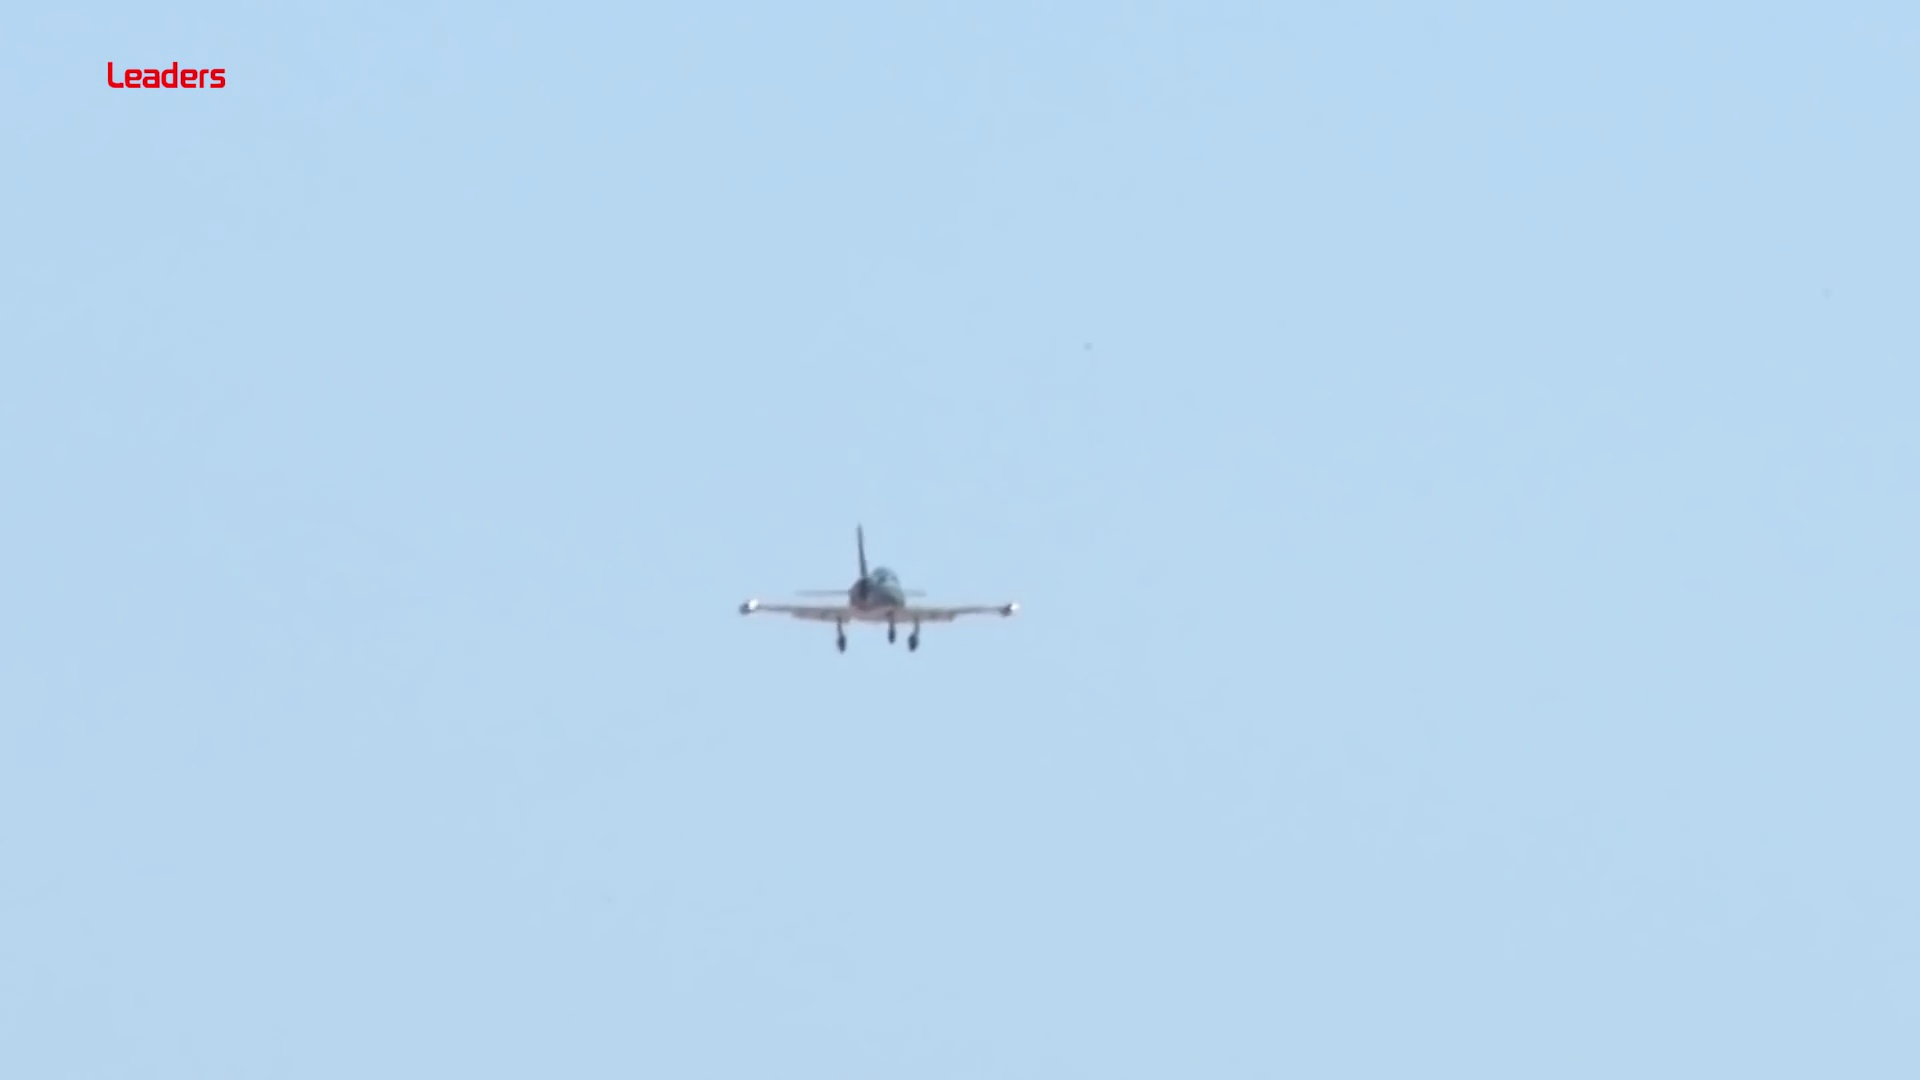Airplane: (729, 527, 1019, 650)
